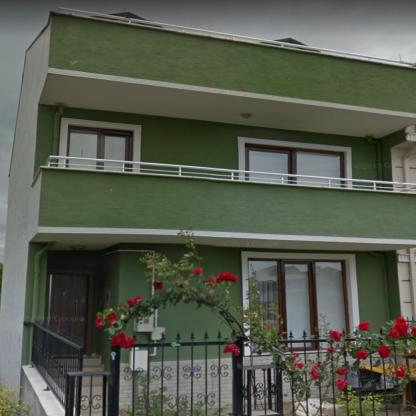door: (46, 272, 91, 355)
window: (249, 260, 346, 348), (245, 144, 346, 187), (66, 125, 132, 171)
